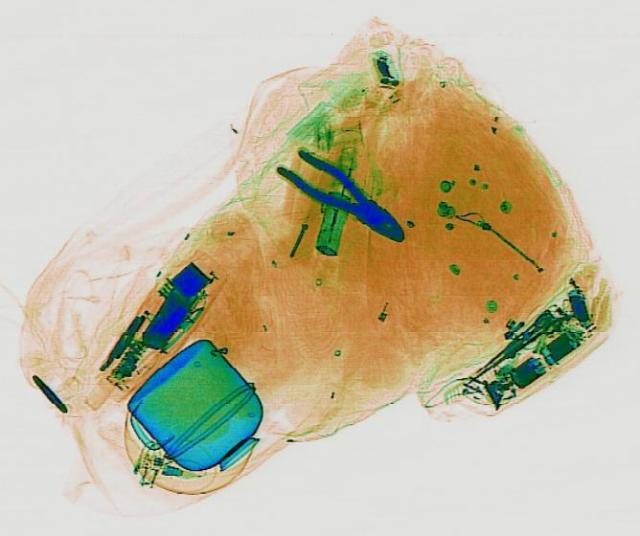Pliers: (271, 142, 419, 250)
